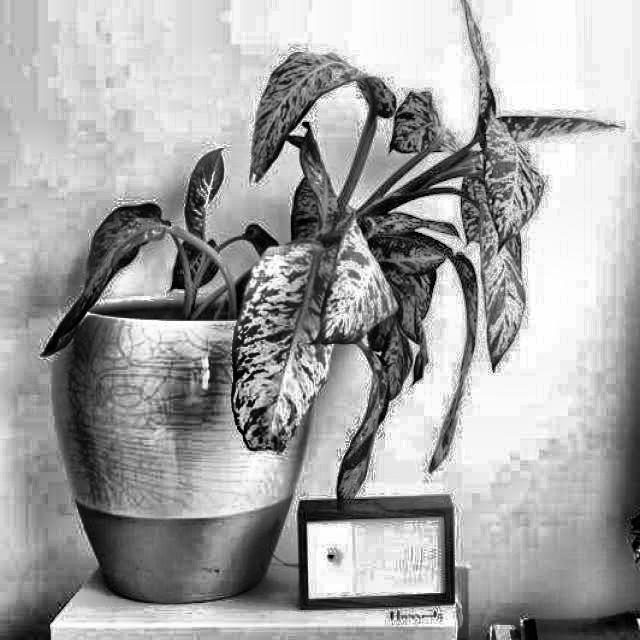plants: (36, 16, 614, 602)
